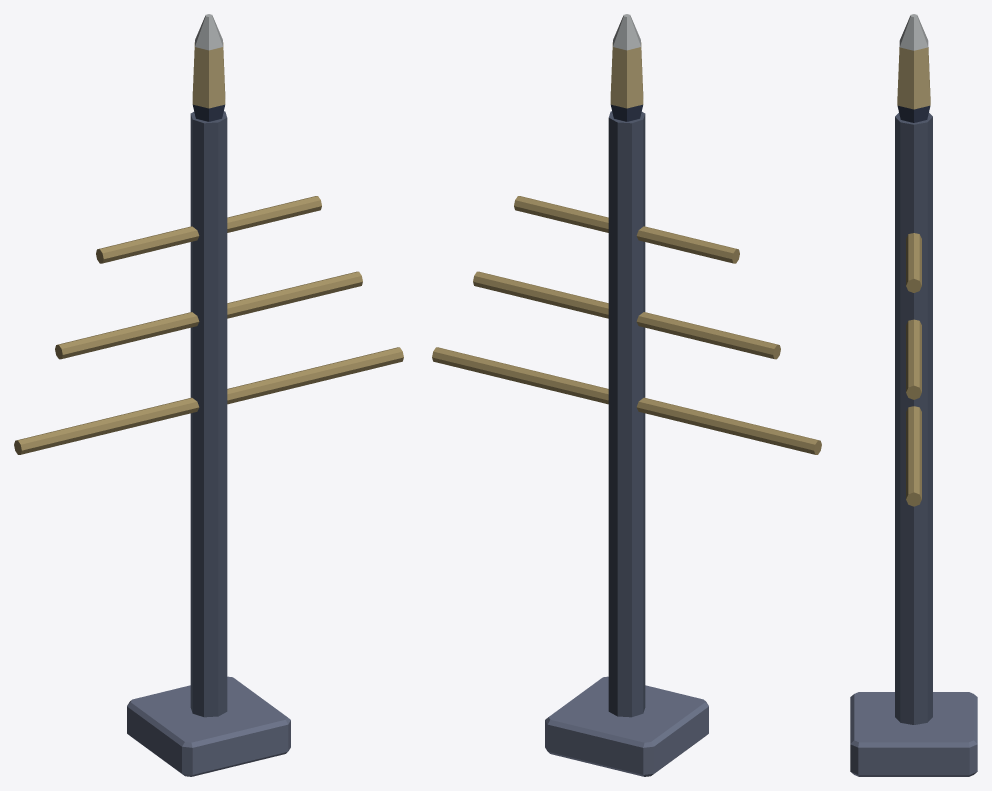
The model's file is lightning-rod.glb.
3 views of the same model, side by side, from view 1: azimuth 30°, elevation 25°; view 2: azimuth 150°, elevation 25°; view 3: azimuth 270°, elevation 25° (orthographic).
Parts seen in each view (by area): view 1: lightning-rod__body; view 2: lightning-rod__body; view 3: lightning-rod__body.
Boxes of the visible parts, left/top/right/bottom form: lightning-rod__body: left=14, top=14, right=403, bottom=776; lightning-rod__body: left=432, top=14, right=821, bottom=776; lightning-rod__body: left=850, top=14, right=977, bottom=776.
Size of the model in its own units: 1.4 by 2.55 by 0.4.
